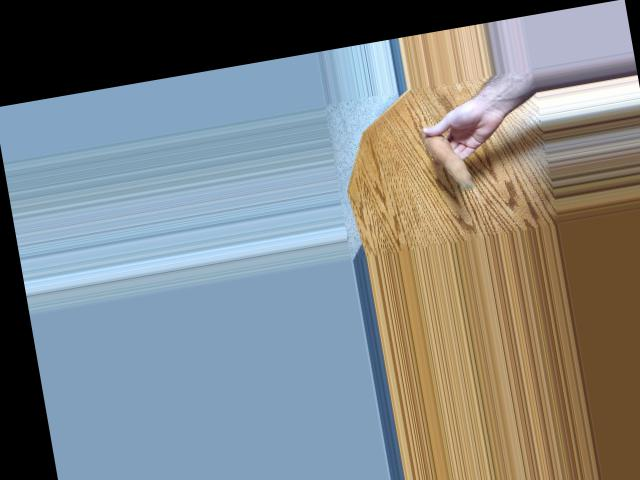sweet_potato: (419, 116, 480, 198)
